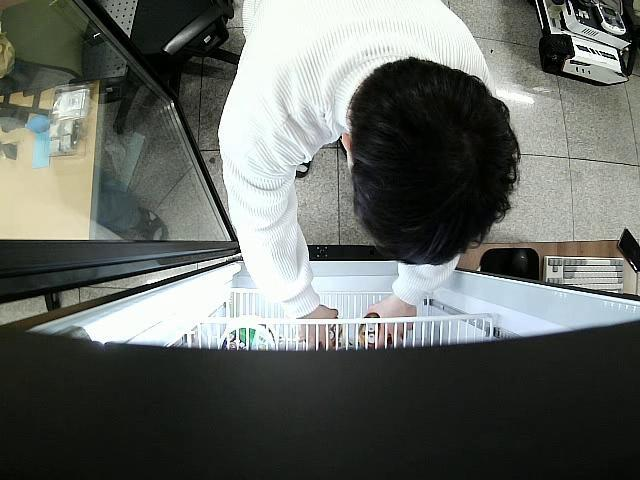06_nuguri_S: (358, 313, 392, 350), (324, 312, 344, 349)
